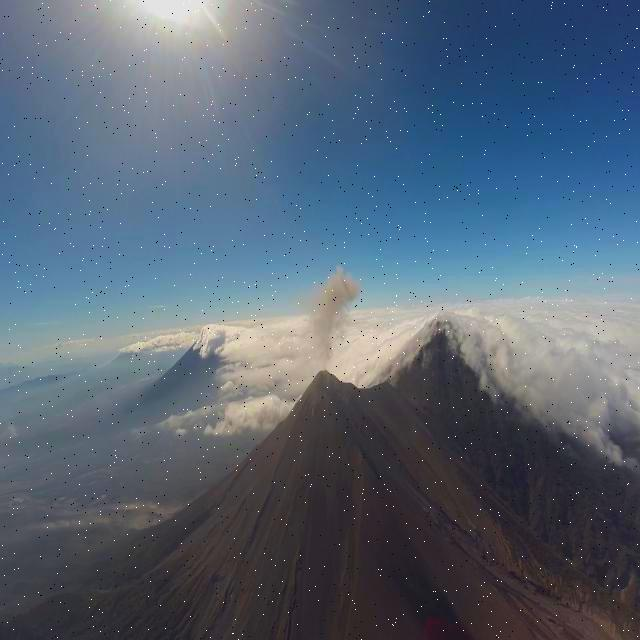Plume: (306, 259, 361, 366)
Summit: (294, 368, 358, 404)
